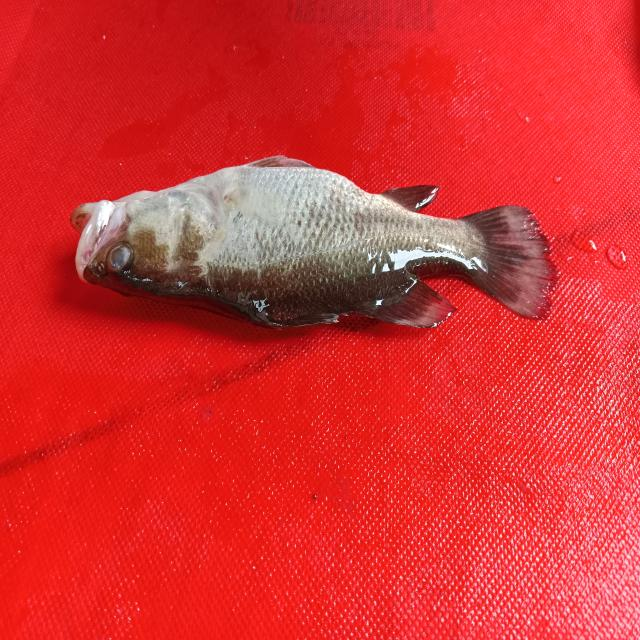ikan: (67, 138, 601, 362)
